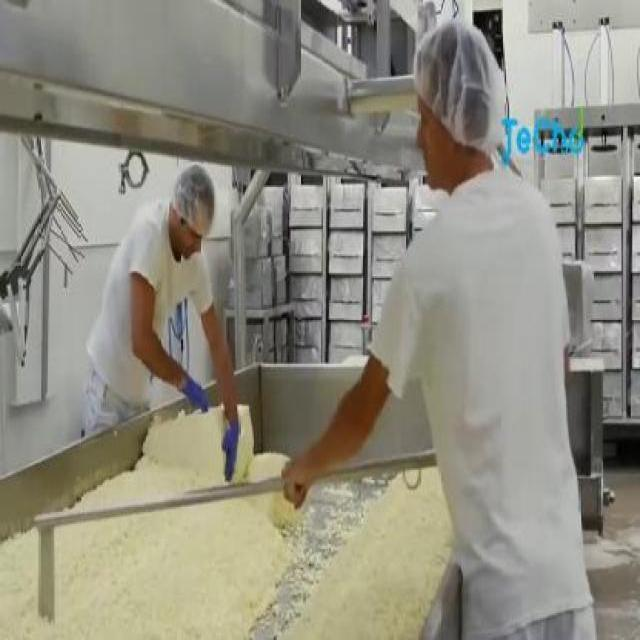bare_hand: (280, 433, 346, 531)
gloved_hand: (172, 359, 214, 421), (219, 396, 247, 480)
